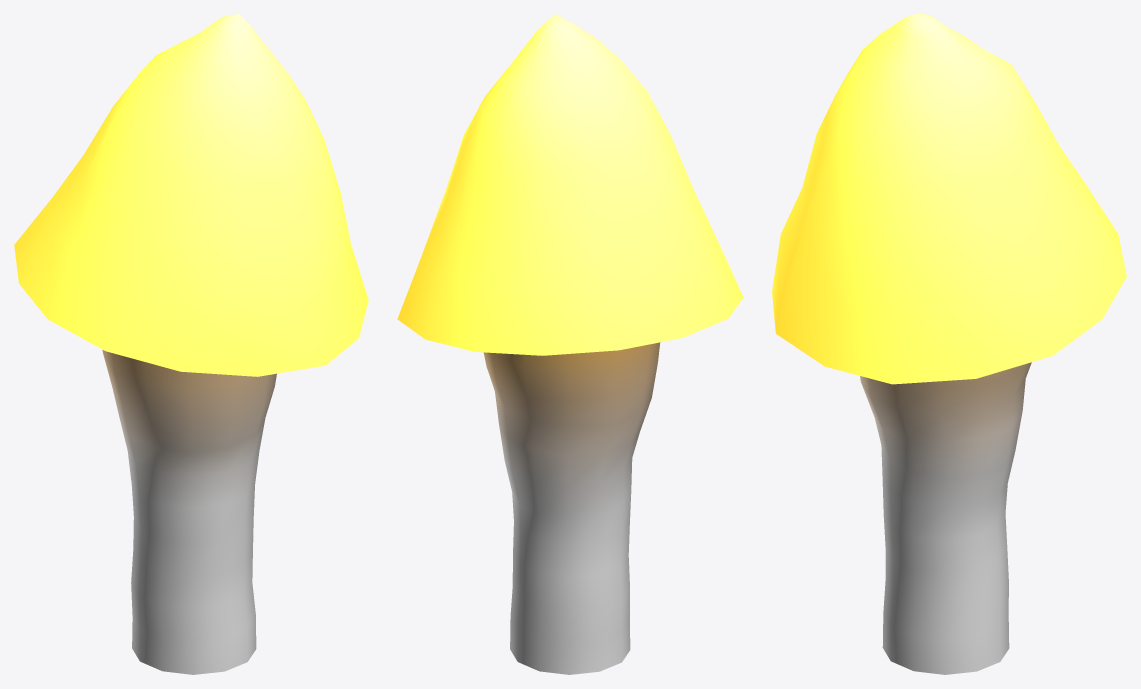
Rendered from mushroom_3.glb.
The picture shows the model from 3 angles, left to right: view 1: azimuth 30°, elevation 25°; view 2: azimuth 150°, elevation 25°; view 3: azimuth 270°, elevation 25°; orthographic projection. The views are drawn at different scales.
Visible parts, largest first — view 1: geo1; view 2: geo1; view 3: geo1.
Part boxes in pixels (x1,y1,x2,y2): geo1: (14,14,368,674); geo1: (397,14,743,674); geo1: (772,14,1126,674).
Size of the model in its own units: 0.1538 by 0.3078 by 0.1525.
